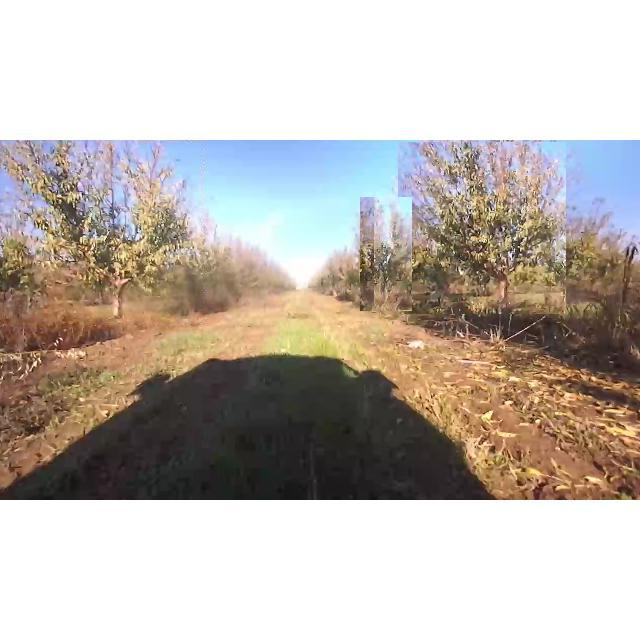direk: (4, 142, 204, 324), (398, 142, 566, 314), (360, 197, 412, 311)
